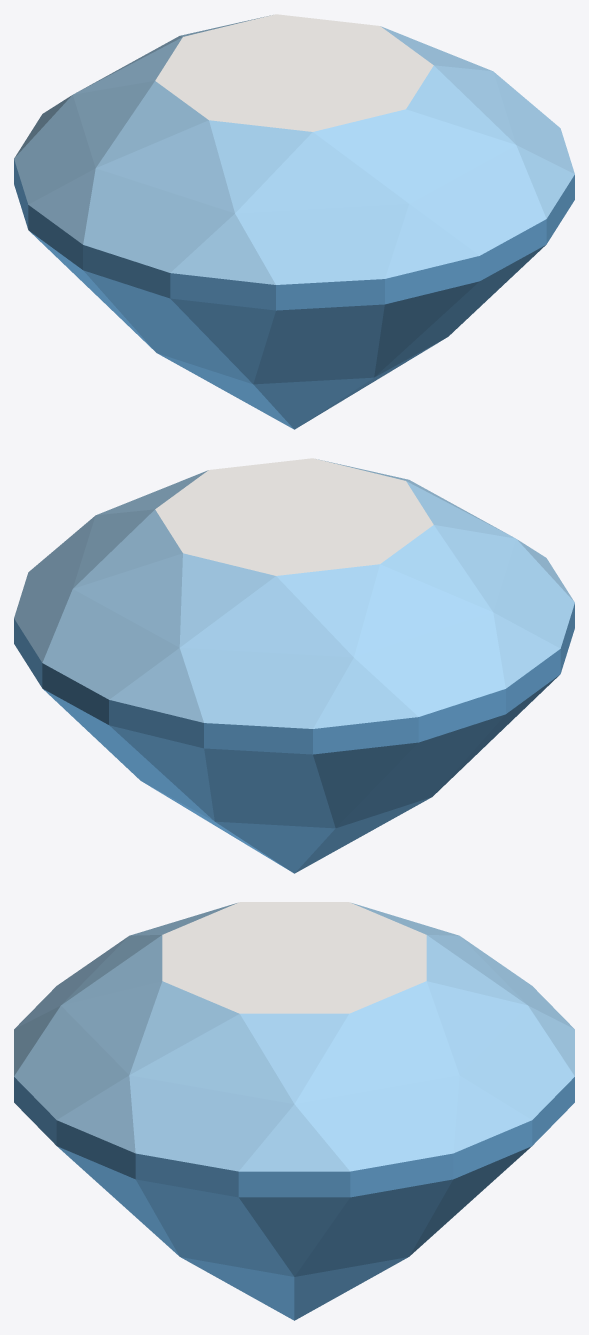
The model's file is gem_candy.glb.
3 views of the same model, one above another, from view 1: azimuth 30°, elevation 25°; view 2: azimuth 150°, elevation 25°; view 3: azimuth 270°, elevation 25° (orthographic).
Parts seen in each view (by area): view 1: gem_candy; view 2: gem_candy; view 3: gem_candy.
Boxes of the visible parts, box(x1,y1,x2,y2) form: gem_candy: box(14, 14, 574, 429); gem_candy: box(14, 458, 574, 873); gem_candy: box(14, 902, 574, 1320).
Bounding box in the file's own units: 0.6 × 0.4282 × 0.6.
